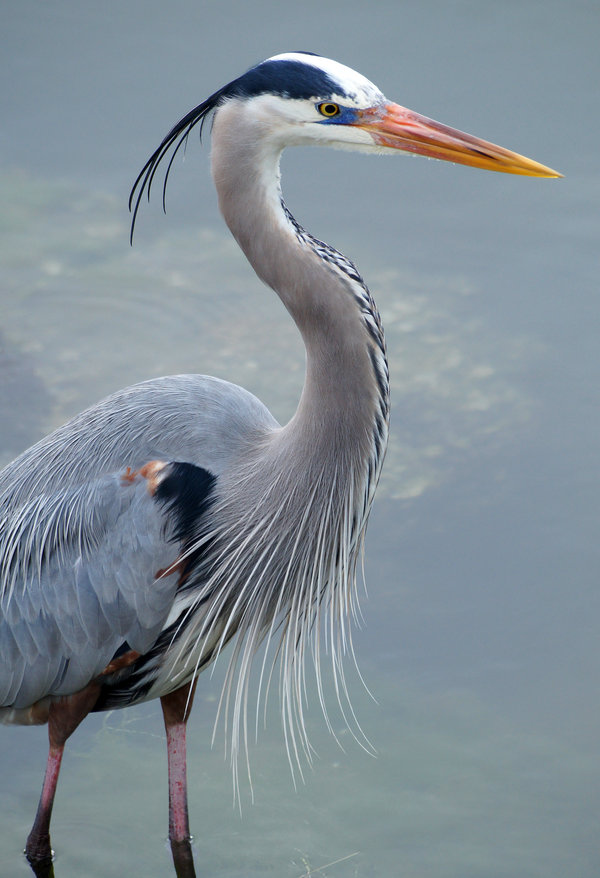heron: (4, 49, 567, 878)
